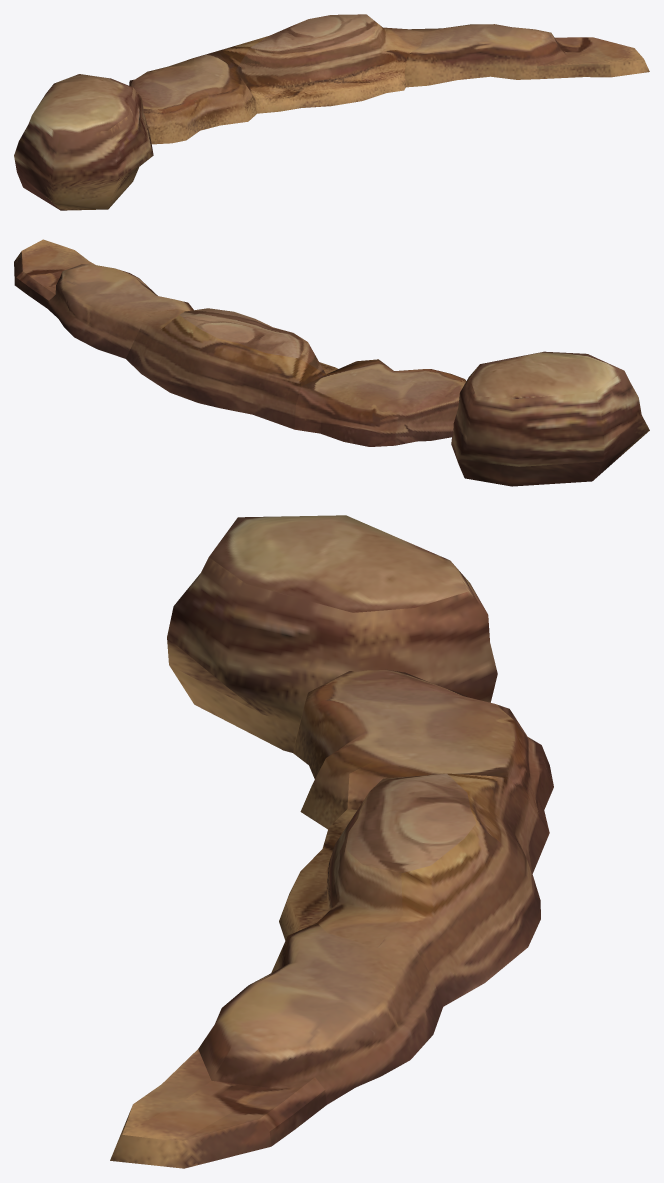
File: shitou15.FBX
3 renders of one model, top to bottom at view 1: azimuth 30°, elevation 25°; view 2: azimuth 150°, elevation 25°; view 3: azimuth 270°, elevation 25°, orthographic. The views are drawn at different scales.
Parts seen in each view (by area): view 1: shitou15; view 2: shitou15; view 3: shitou15.
Boxes of the visible parts, x1=… form: shitou15: x1=14, y1=14, x2=649, y2=210; shitou15: x1=14, y1=239, x2=649, y2=486; shitou15: x1=110, y1=515, x2=553, y2=1168.
Bounding box in the file's own units: 249 × 34.75 × 82.61.
